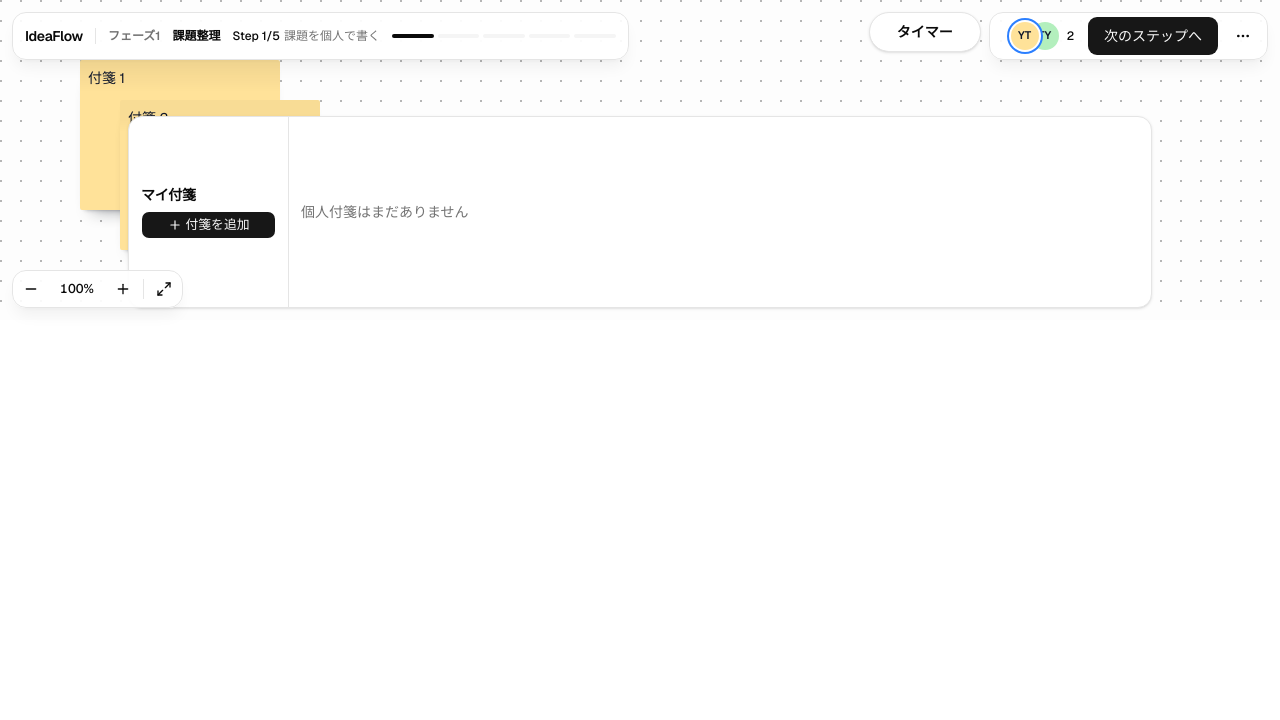
退出・解散ボタン › isLeaving=true のときホストボタンは disabled で文言が「解散中…」になる
Click the button named "ルームメニューを開く": (1243, 36) [1223,16,1263,56]
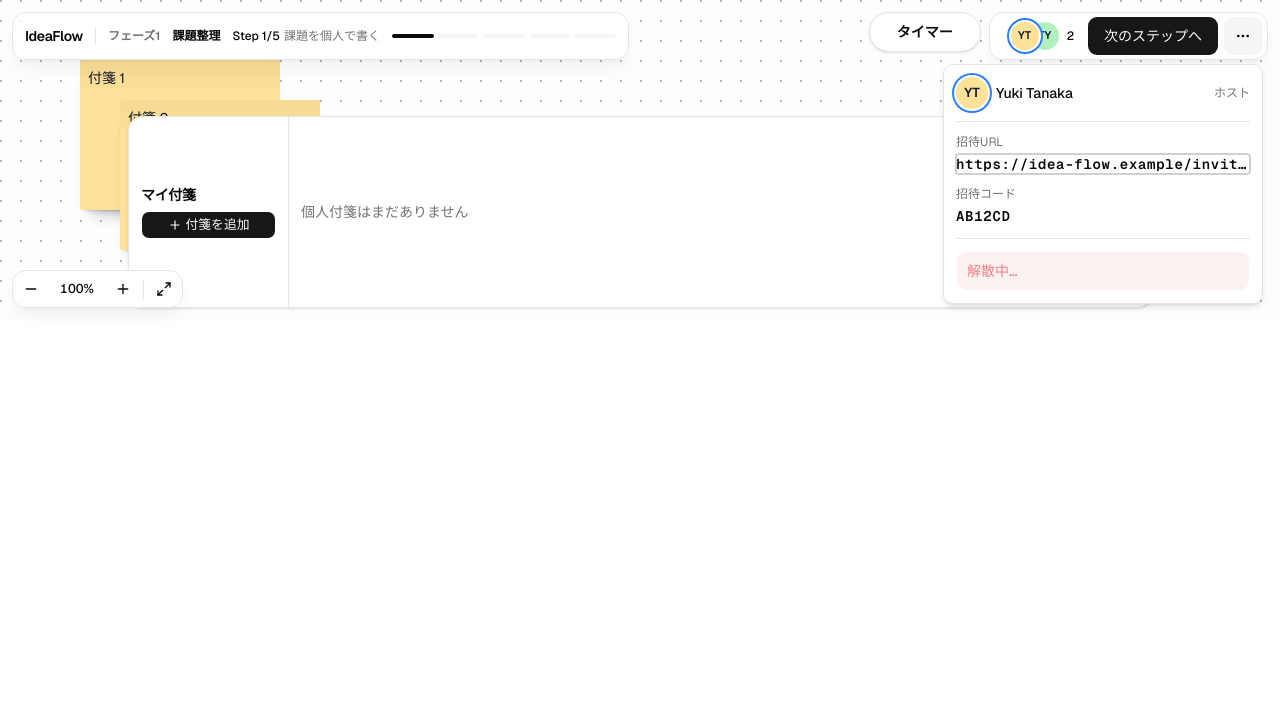
Now the button "解散中…" is disabled, box [956,251,1250,291]
Now the button "解散中…" is shown, box [956,251,1250,291]
